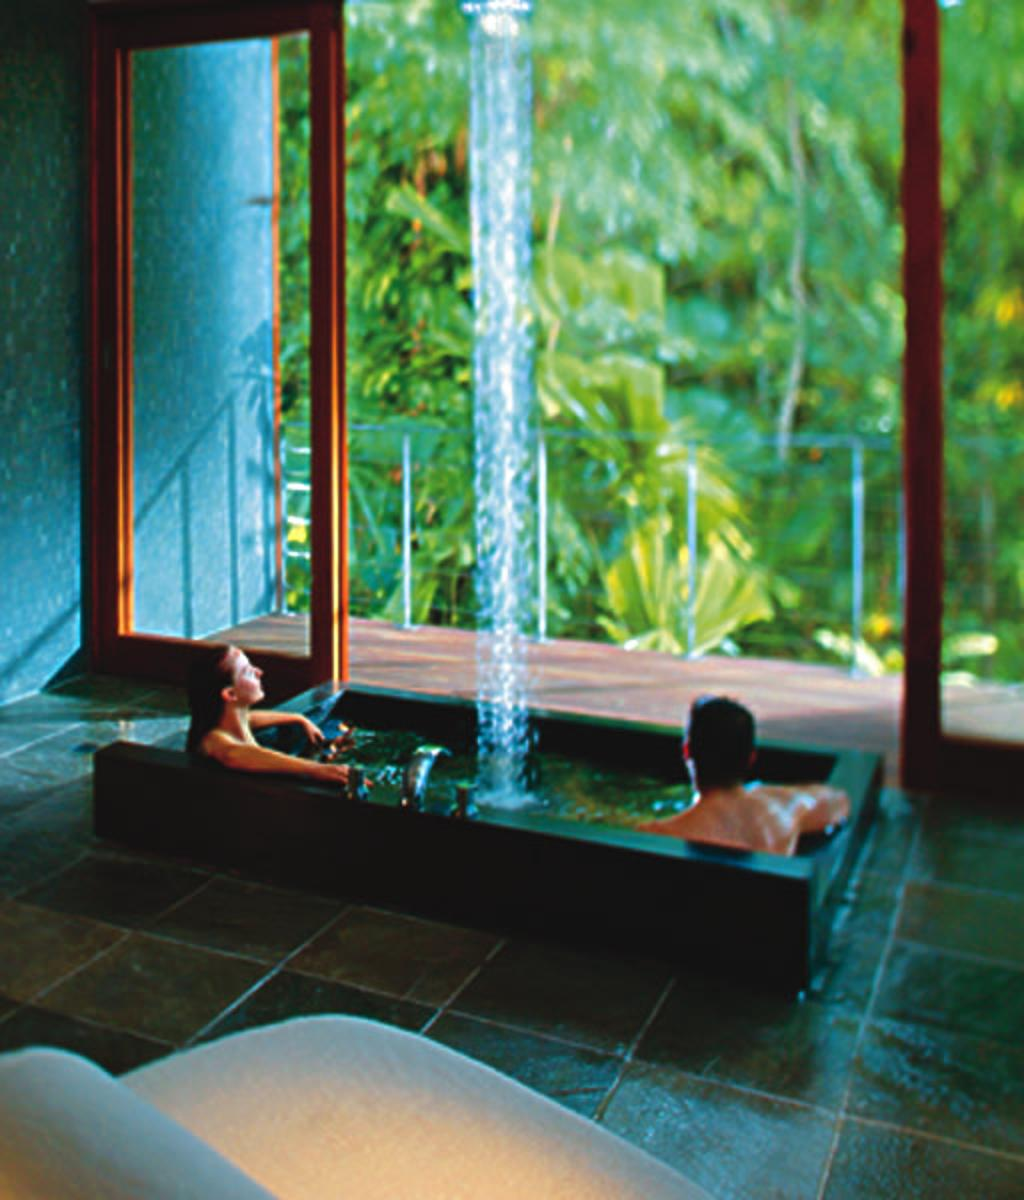face: (233, 646, 264, 704)
